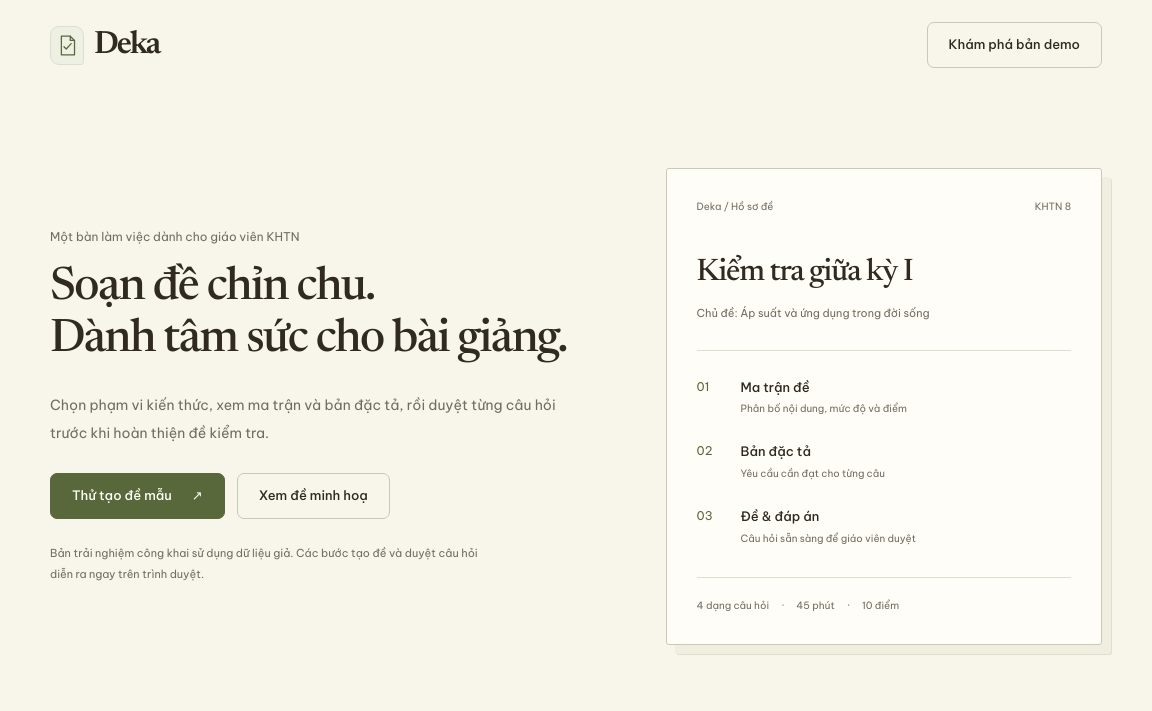
Test: public demo workflow › runs the public workflow without an API connection
The width and height of the screenshot is (1152, 711).
Click the link "Thử tạo đề mẫu ↗" at coordinates (137, 496), box top-left (50, 473), bottom-right (225, 519)
(page scrolled)
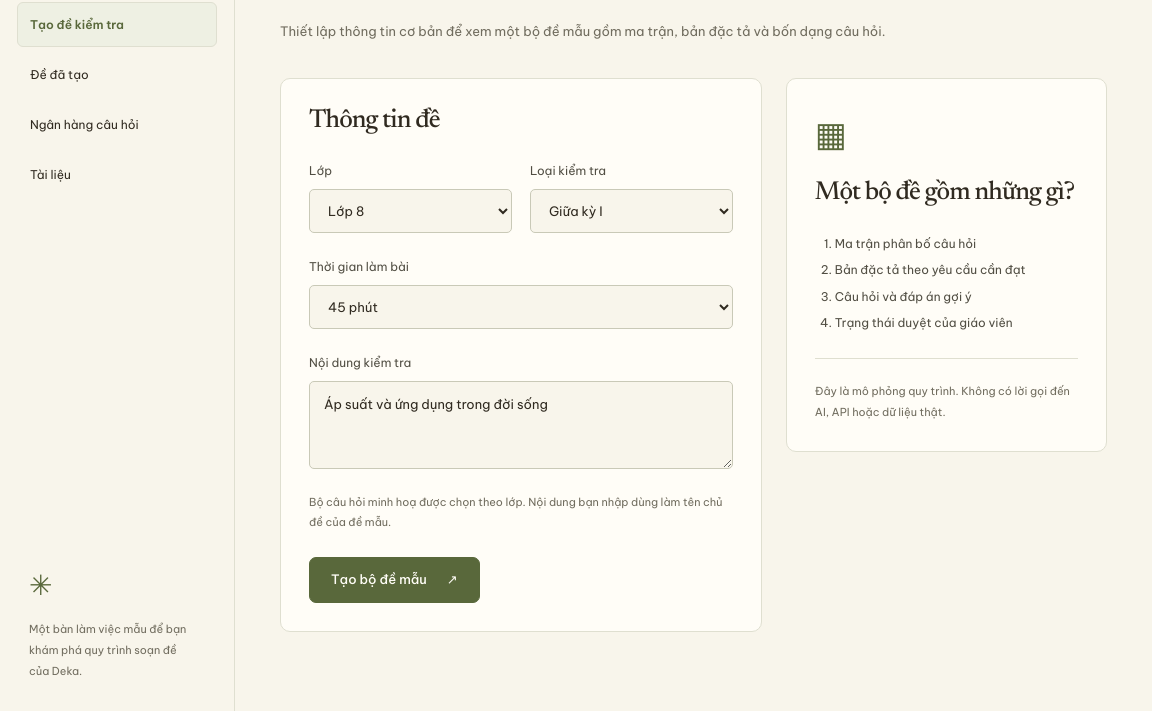
Click the button "Tạo bộ đề mẫu ↗" at coordinates (394, 580), box top-left (309, 557), bottom-right (480, 603)
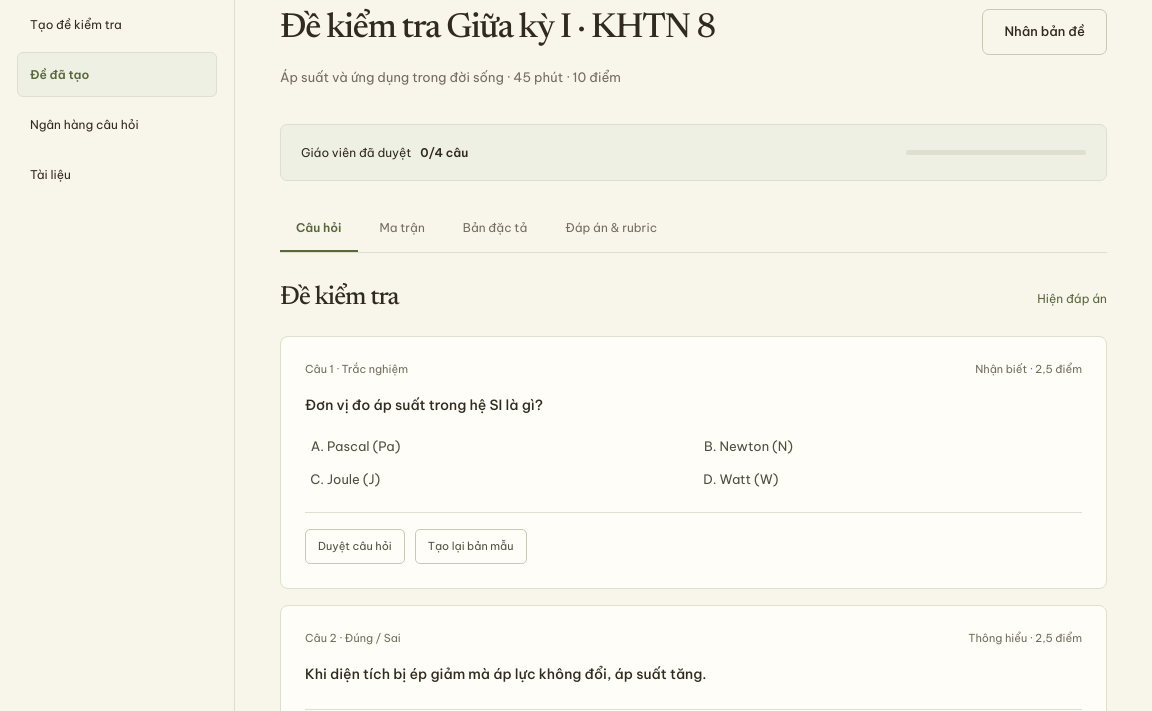
Click the button "Duyệt câu hỏi" at coordinates (355, 546), box top-left (305, 529), bottom-right (405, 564)
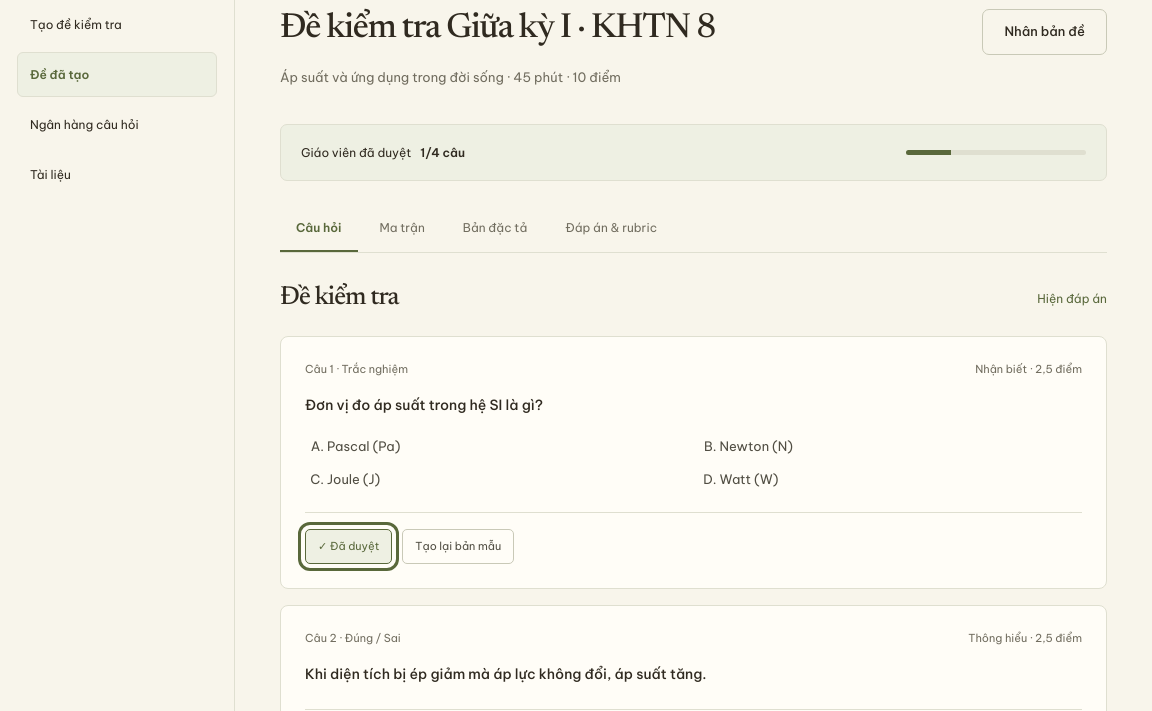
Click the link "Ngân hàng câu hỏi" at coordinates (84, 125), box top-left (30, 117), bottom-right (139, 132)
(page scrolled)
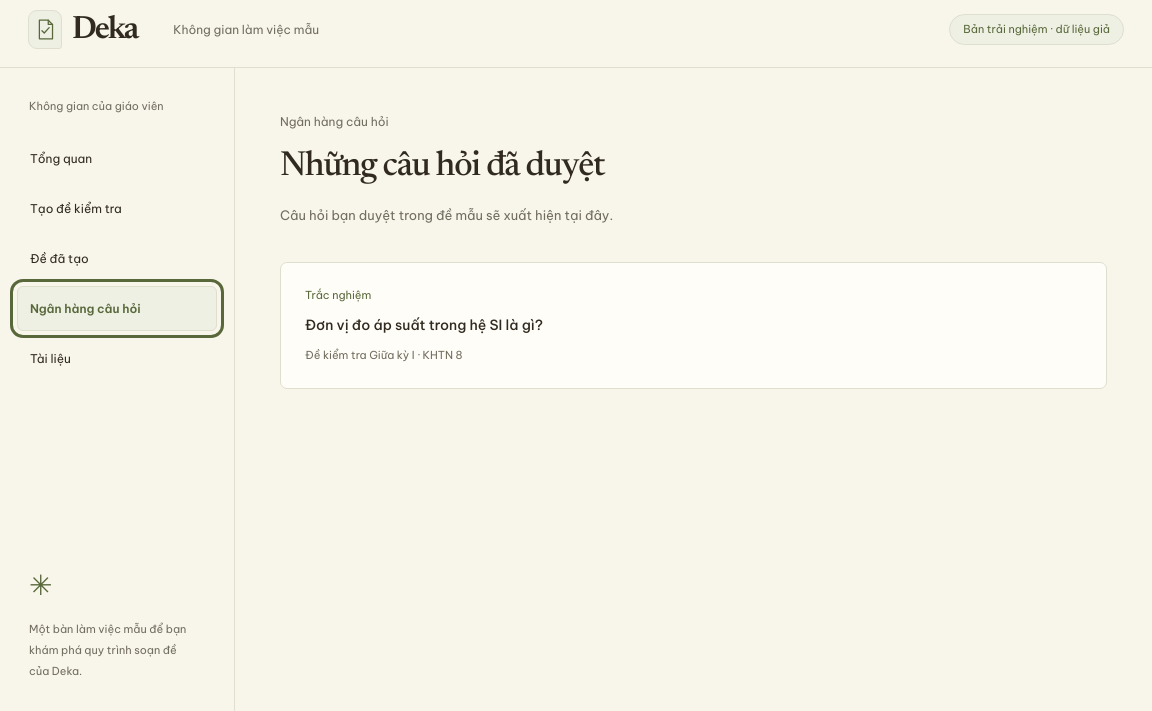
Click the link "Tài liệu" at coordinates (50, 359), box top-left (30, 351), bottom-right (71, 366)
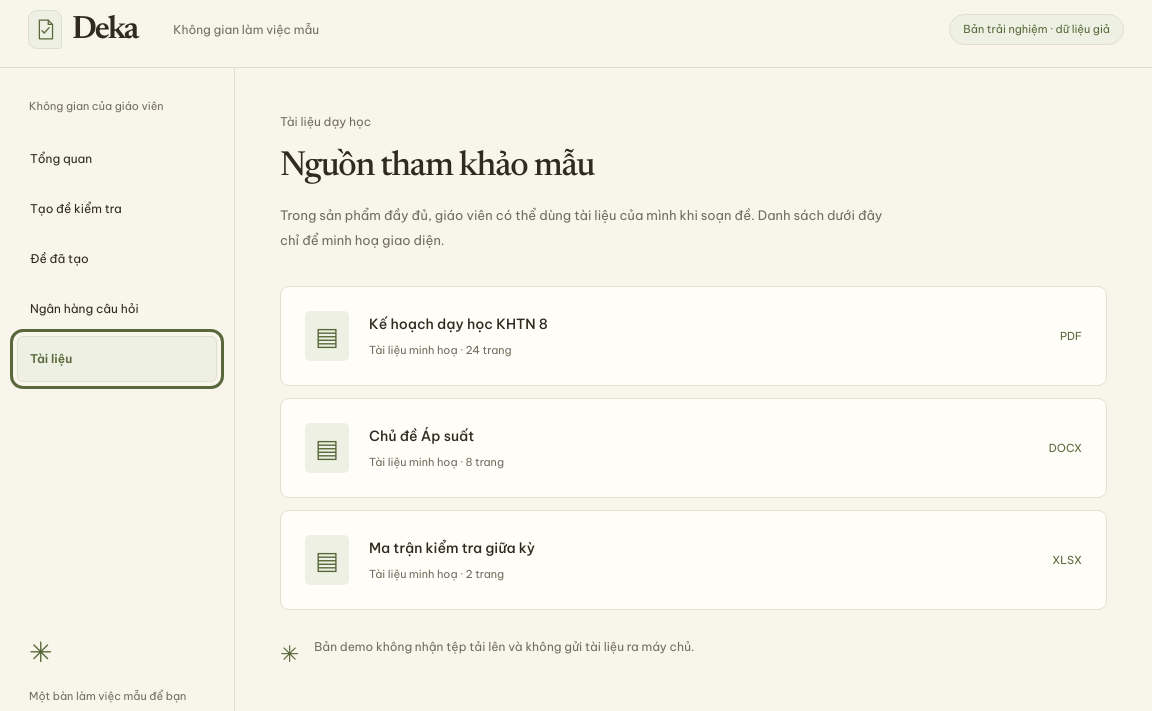
Now the heading "Nguồn tham khảo mẫu" is shown, box top-left (280, 150), bottom-right (594, 184)
